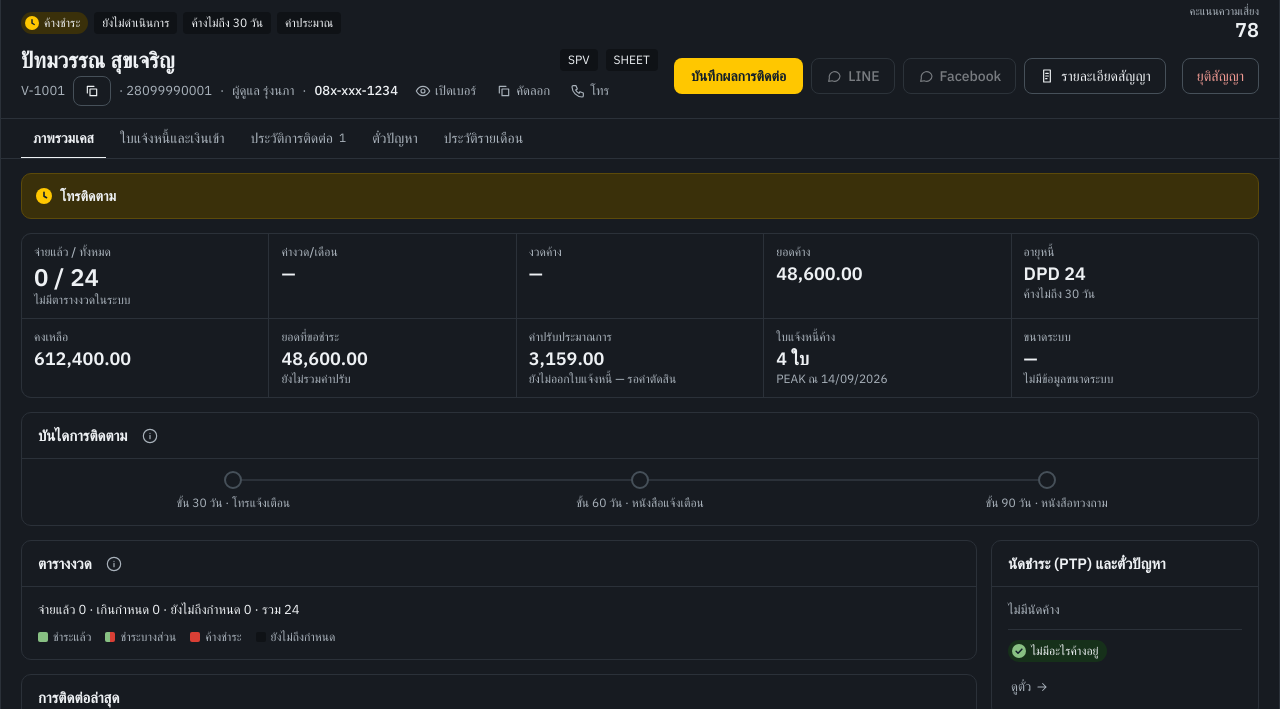
Test: the case header and tabs (design D) › shows the amount-led pending form to an officer without a manager gate
Step 1. Click the tab "ใบแจ้งหนี้และเงินเข้า" → (172, 139), box [108,119,236,159]
(page scrolled)
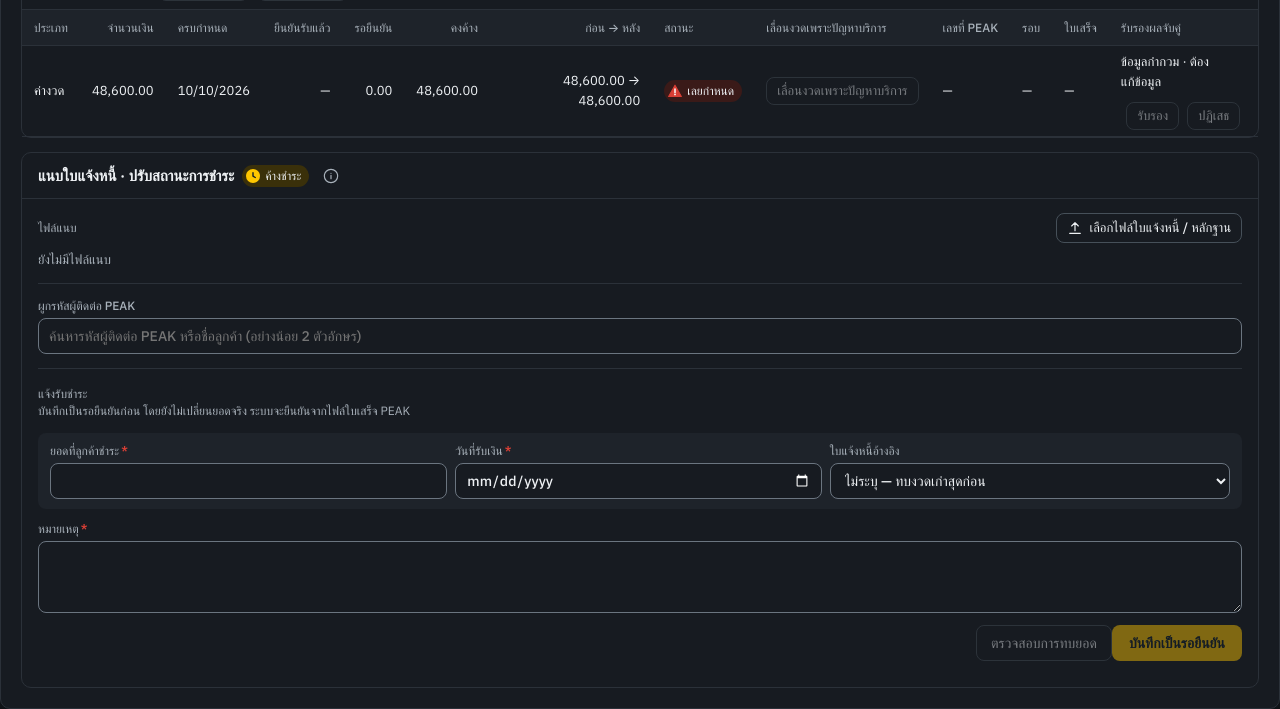
Check: the number field labelled "ยอดที่ลูกค้าชำระ" is enabled, box [50,463,447,499]
Check: the date field labelled "วันที่รับเงิน" is enabled, box [455,463,822,499]
Check: the button "ตรวจสอบการทบยอด" is disabled, box [976,625,1112,661]
